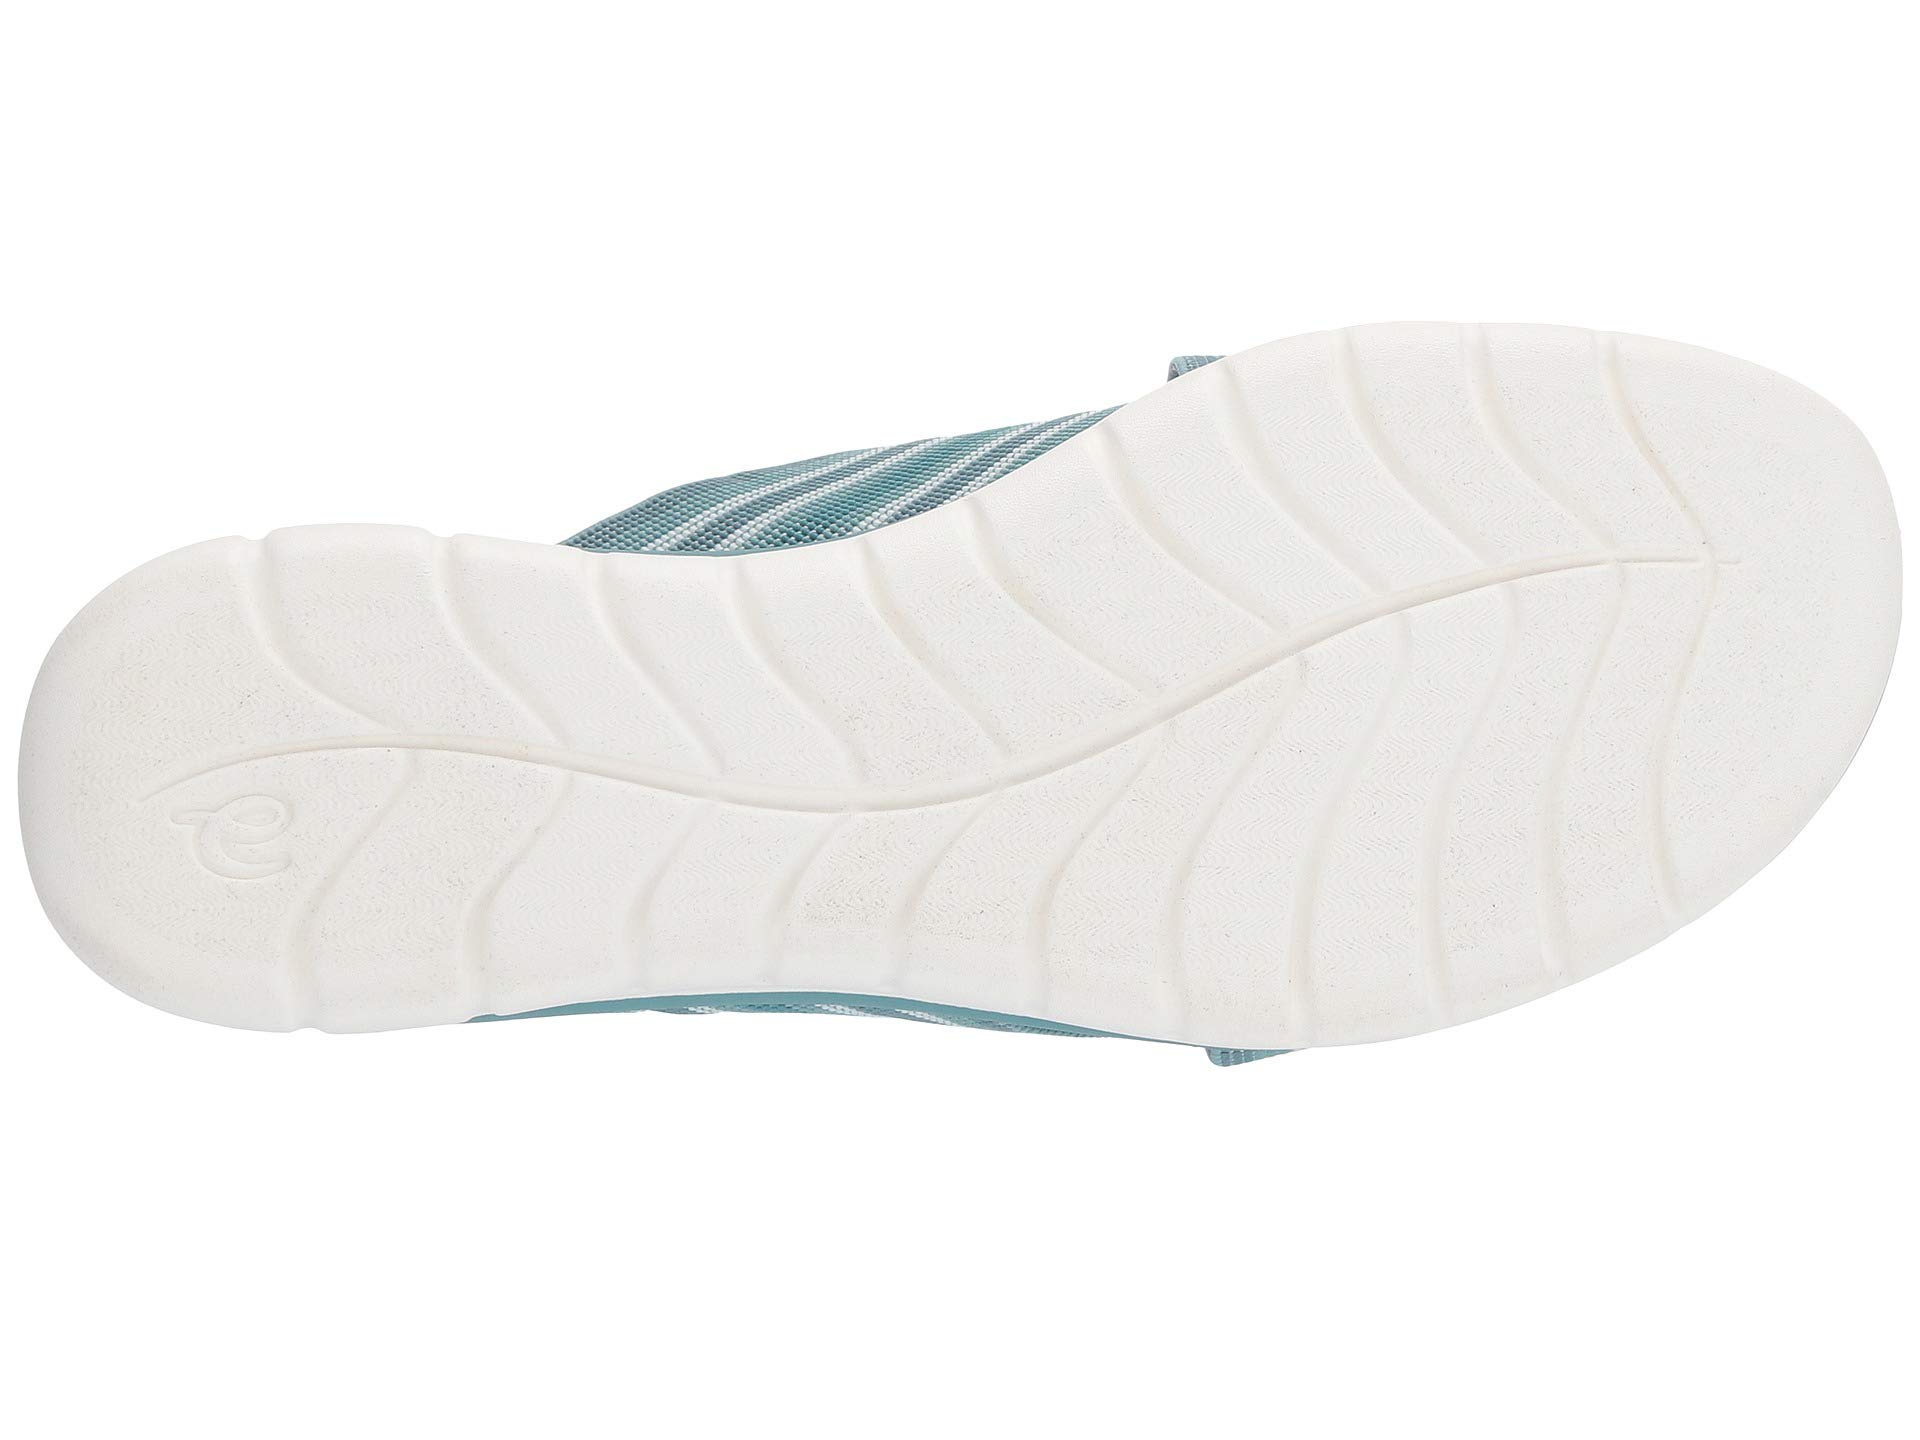text: (147, 753, 321, 920)
